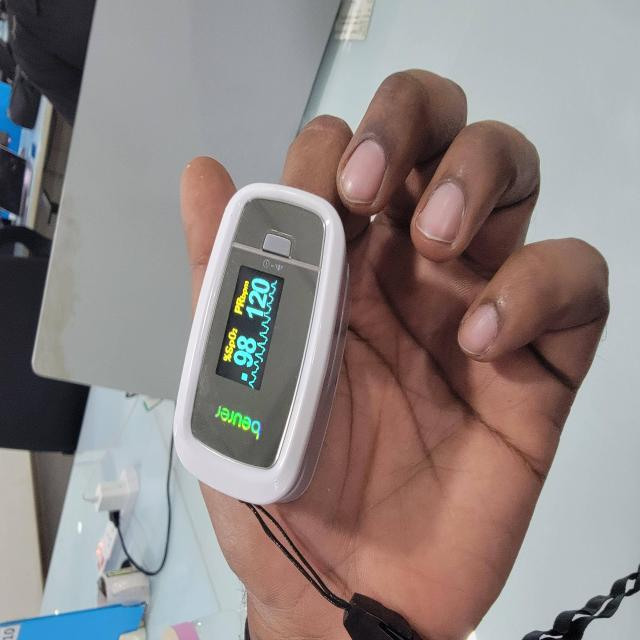spo2: (174, 183, 346, 507)
